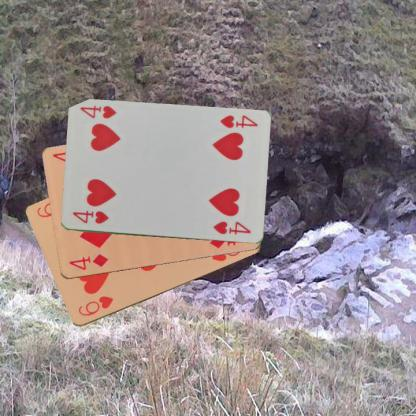4d: (66, 252, 110, 272)
4h: (69, 208, 110, 225), (217, 113, 258, 130)
6h: (75, 293, 115, 318)
